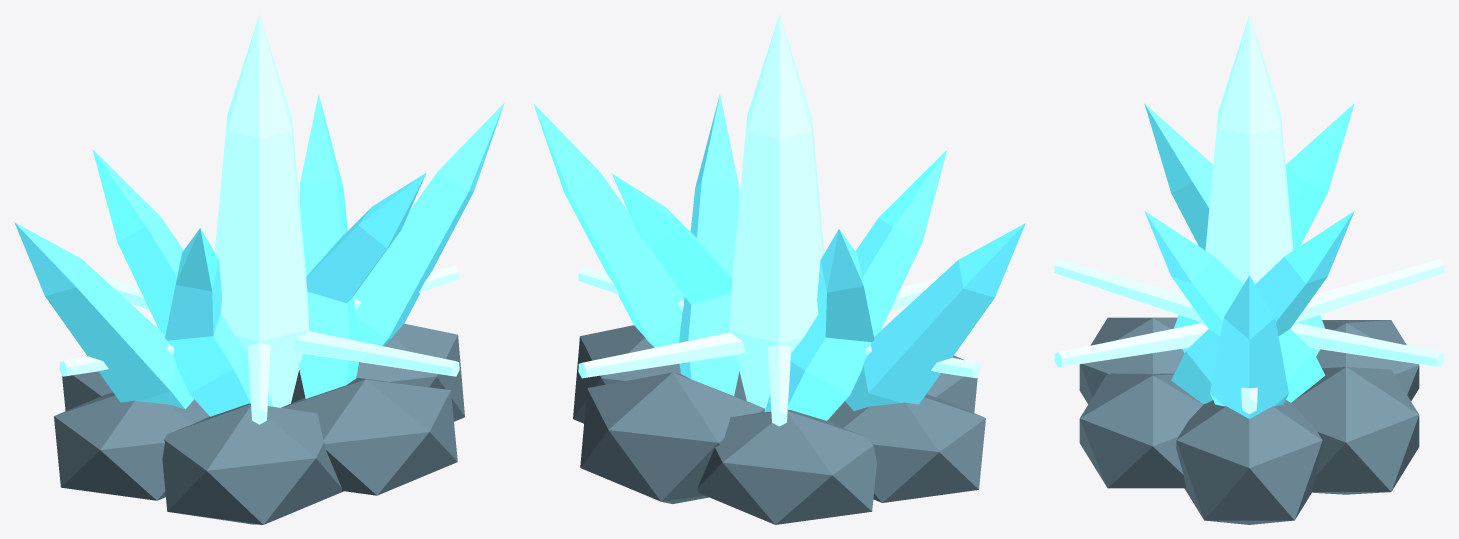
File: frost_crystal_node.fbx
3 views of the same model, side by side, from view 1: azimuth 30°, elevation 25°; view 2: azimuth 150°, elevation 25°; view 3: azimuth 270°, elevation 25° (orthographic). The views are drawn at different scales.
Visible parts, largest first — view 1: Frost_Crystal.002, Frost_Bedrock.002, Frost_Glow.002; view 2: Frost_Crystal.002, Frost_Bedrock.002, Frost_Glow.002; view 3: Frost_Bedrock.002, Frost_Crystal.002, Frost_Glow.002.
Part boxes in pixels (x1,y1,x2,y2): Frost_Crystal.002: (14, 94, 504, 416); Frost_Bedrock.002: (54, 323, 464, 524); Frost_Glow.002: (59, 14, 459, 424); Frost_Crystal.002: (533, 94, 1025, 420); Frost_Bedrock.002: (573, 325, 985, 524); Frost_Glow.002: (578, 14, 980, 426); Frost_Bedrock.002: (1079, 317, 1419, 524); Frost_Crystal.002: (1144, 103, 1354, 418); Frost_Glow.002: (1054, 14, 1444, 414).
Size of the model in its own units: 237 by 217 by 168.
